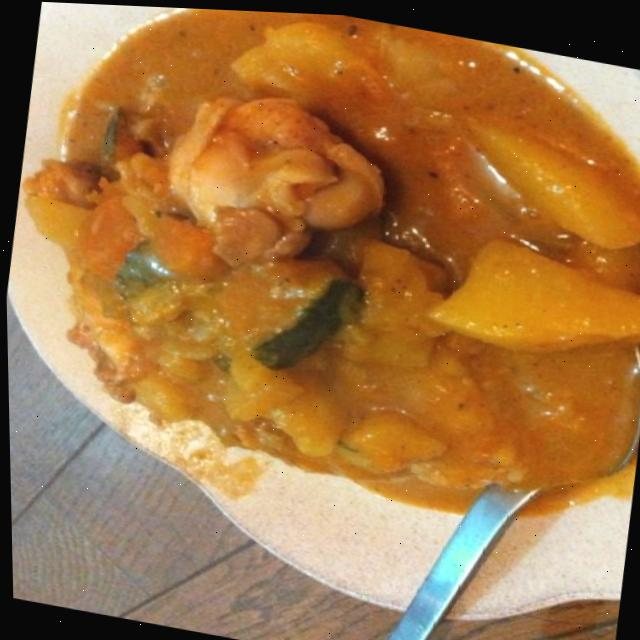米饭主食: (341, 19, 640, 453)
